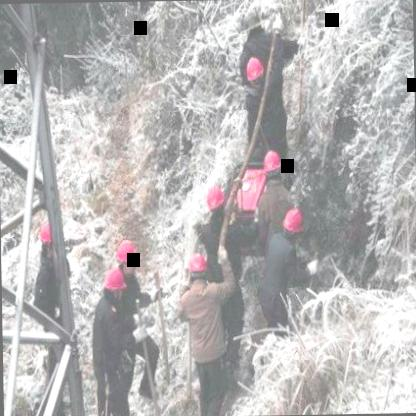helmet: (37, 212, 68, 260), (278, 207, 308, 250), (183, 249, 212, 290), (243, 51, 270, 94), (98, 268, 126, 308), (259, 148, 286, 185), (204, 182, 230, 220), (114, 239, 141, 275)
